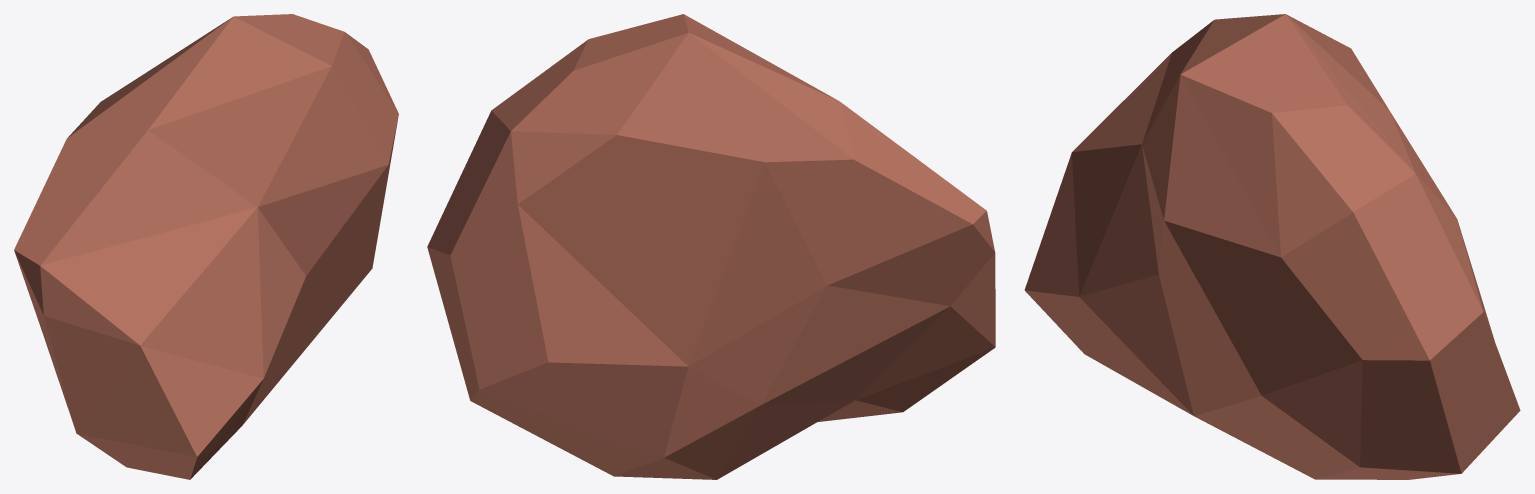
Rendered from rock2.fbx.
3 views of the same model, side by side, from view 1: azimuth 30°, elevation 25°; view 2: azimuth 150°, elevation 25°; view 3: azimuth 270°, elevation 25° (orthographic). The views are drawn at different scales.
Parts seen in each view (by area): view 1: LP Stone B; view 2: LP Stone B; view 3: LP Stone B.
Boxes of the visible parts, x1,y1,x2,y2 form: LP Stone B: [14, 14, 398, 479]; LP Stone B: [427, 14, 995, 479]; LP Stone B: [1024, 14, 1520, 479].
Bounding box in the file's own units: 23.83 × 20.76 × 20.4.
